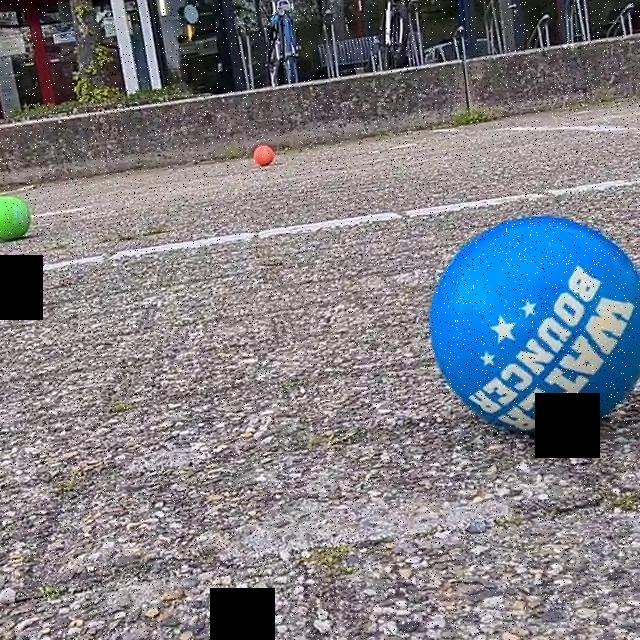ball: (252, 140, 276, 169)
